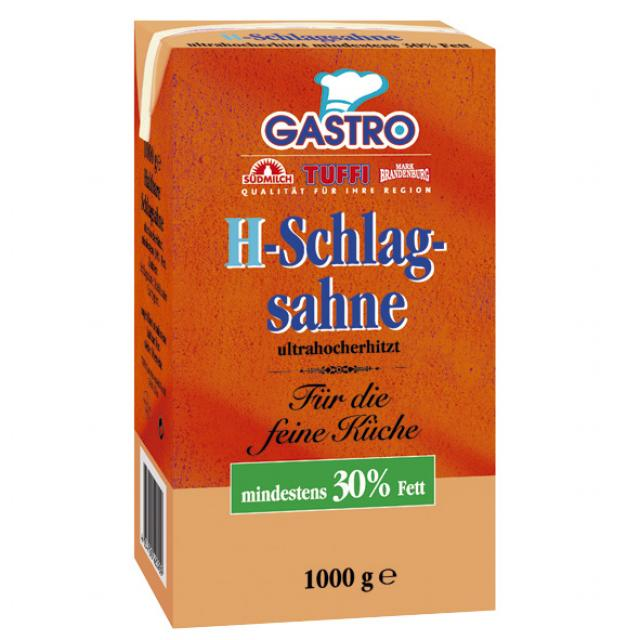Cream: (134, 22, 496, 629)
